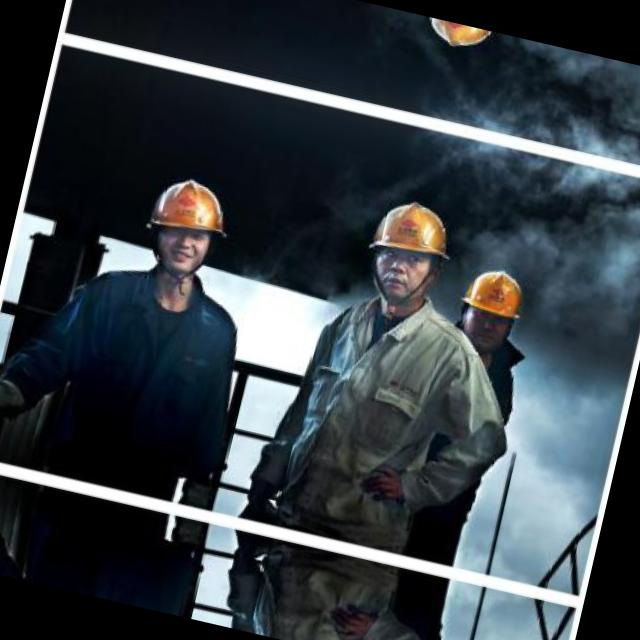helmet: (344, 182, 460, 316), (138, 162, 245, 292), (444, 253, 537, 358), (402, 12, 502, 66)
